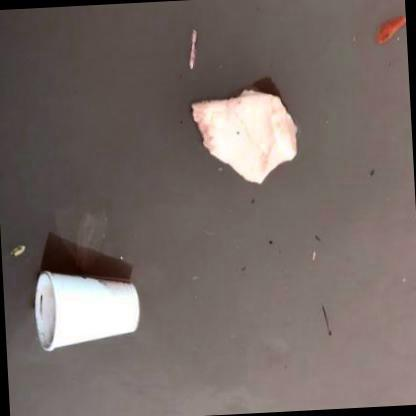Plastic: (34, 264, 142, 353)
Trash: (190, 86, 298, 186)
